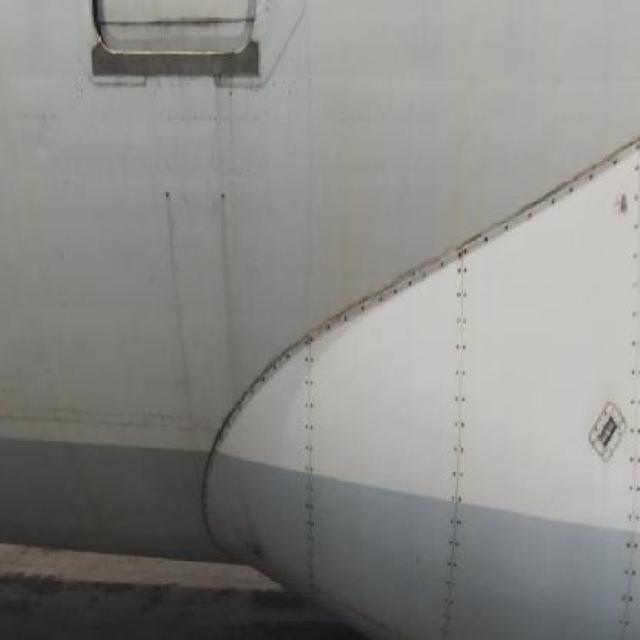Missing-Rivet: (611, 135, 640, 637), (444, 243, 478, 637), (339, 230, 461, 336), (297, 322, 326, 604)
Rust: (159, 187, 190, 373), (216, 186, 241, 365)
